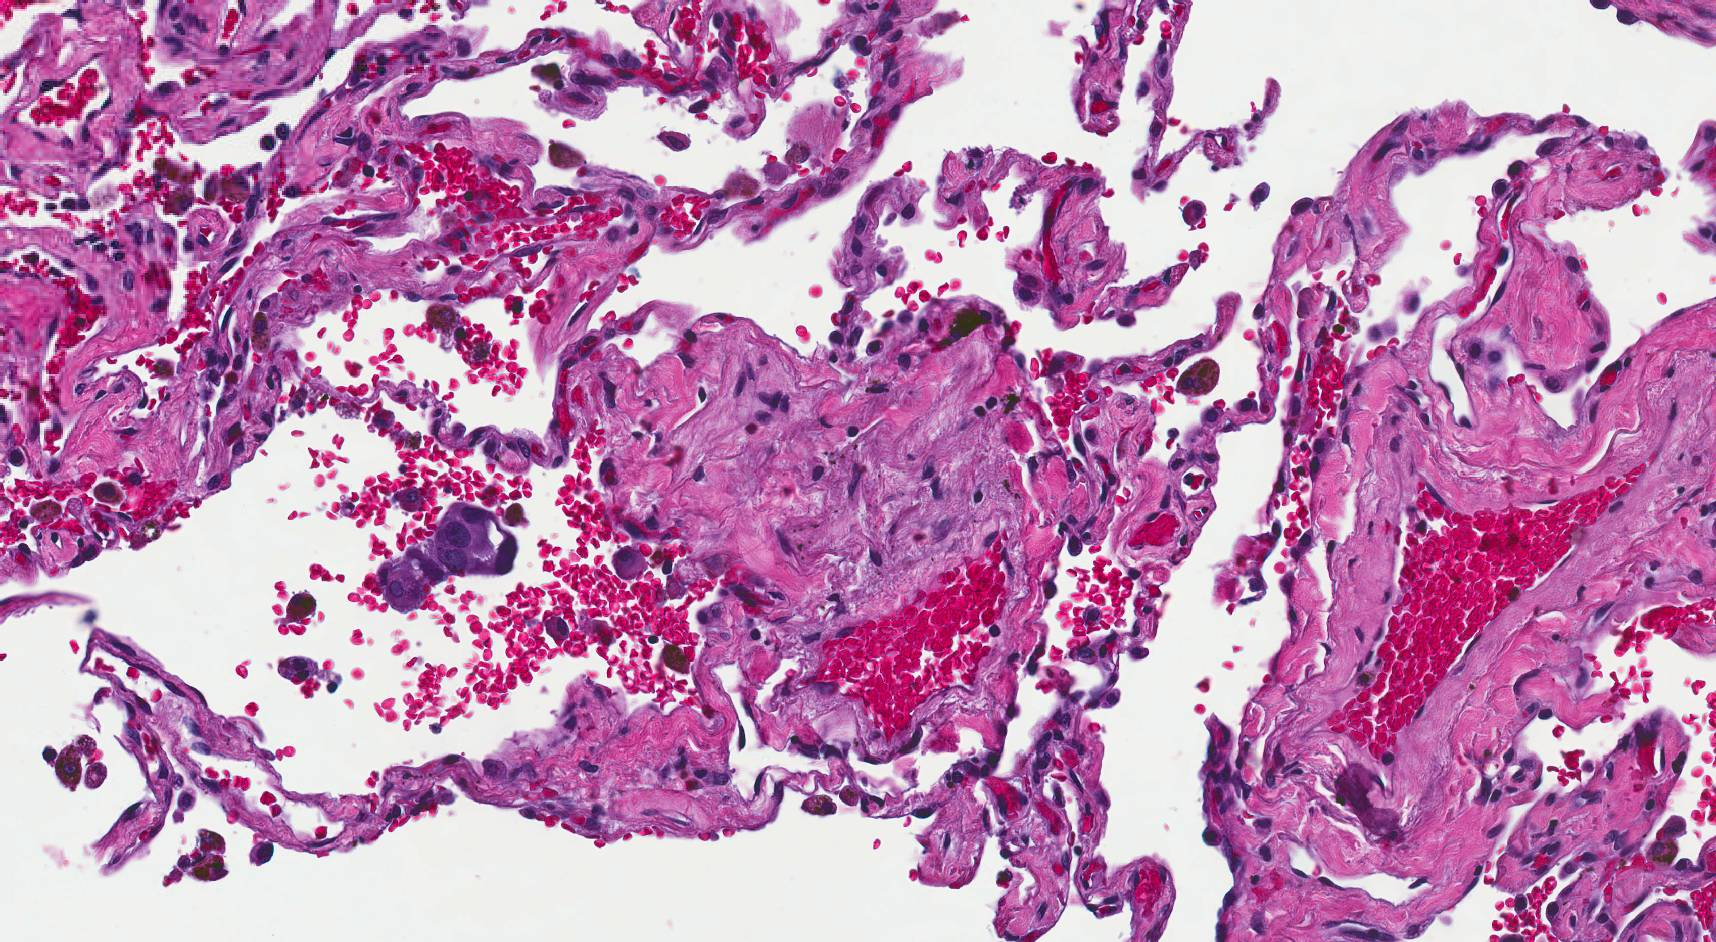stas: (376, 501, 516, 618)
